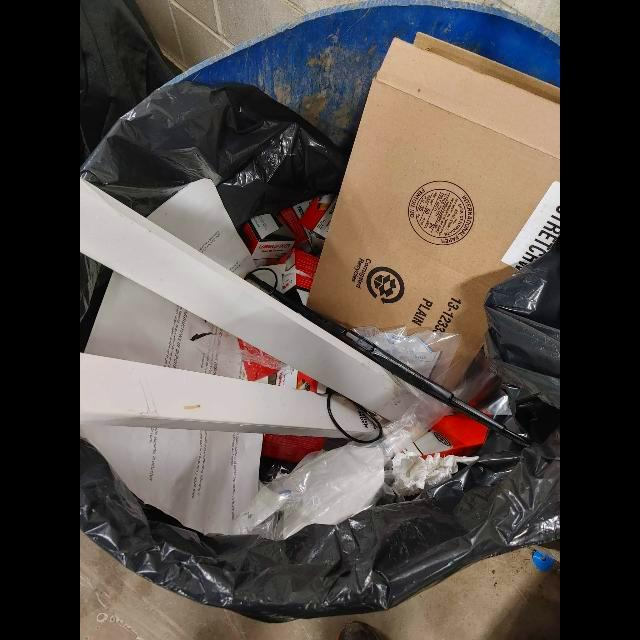cardboard: (306, 32, 560, 368), (242, 213, 295, 260), (278, 248, 319, 306), (279, 200, 316, 248)
paper: (80, 425, 264, 536), (392, 451, 479, 491)
